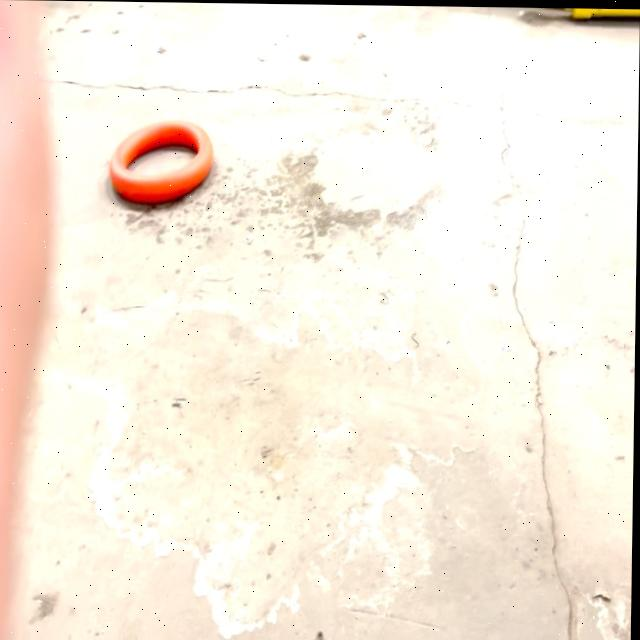note: (109, 116, 214, 211)
